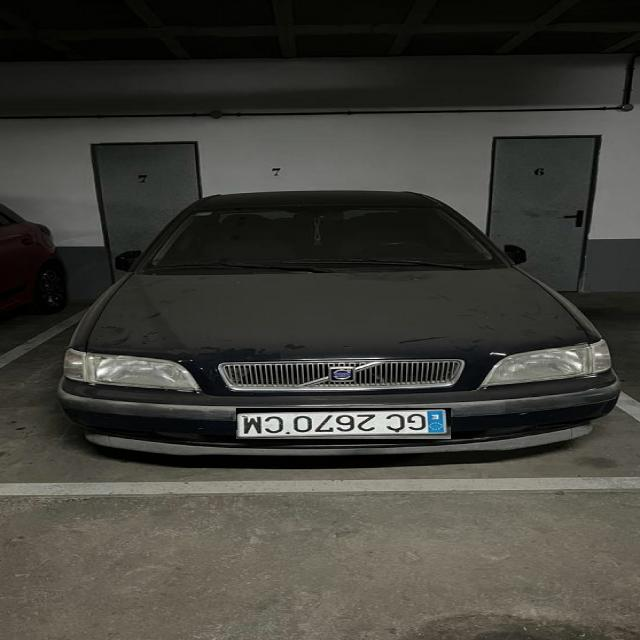License-Plate: (235, 407, 451, 439)
